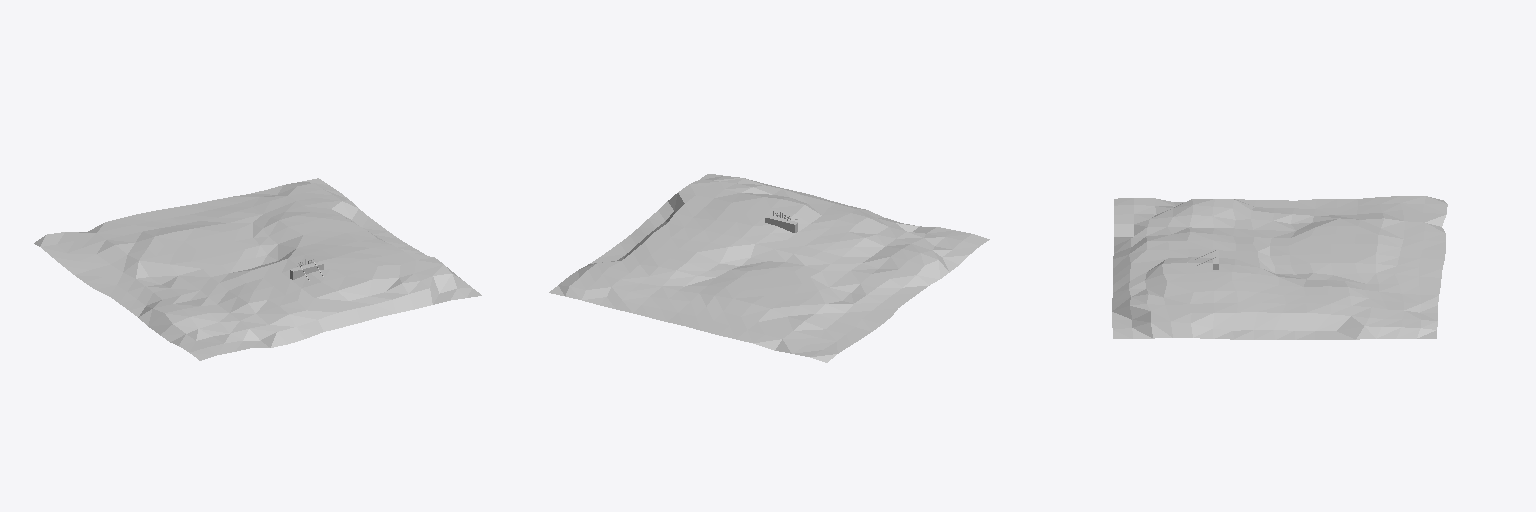
File: TerrainSmooth.obj
3 renders of one model, left to right at view 1: azimuth 30°, elevation 25°; view 2: azimuth 150°, elevation 25°; view 3: azimuth 270°, elevation 25°, orthographic.
Parts seen in each view (by area): view 1: Plane; view 2: Plane; view 3: Plane.
Part boxes in pixels (left/top/right/bottom): Plane: left=34, top=178, right=481, bottom=360; Plane: left=549, top=174, right=989, bottom=362; Plane: left=1112, top=196, right=1447, bottom=339.
Bounding box in the file's own units: 51.53 × 5.37 × 52.11.